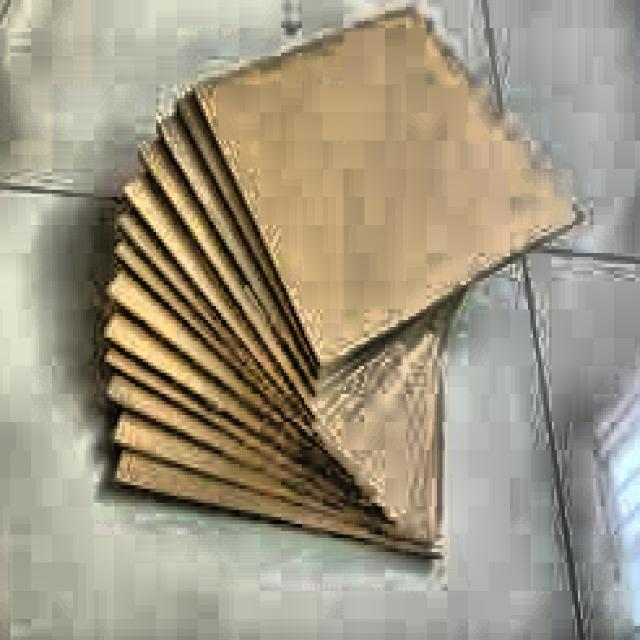cardboard: (99, 0, 580, 559)
